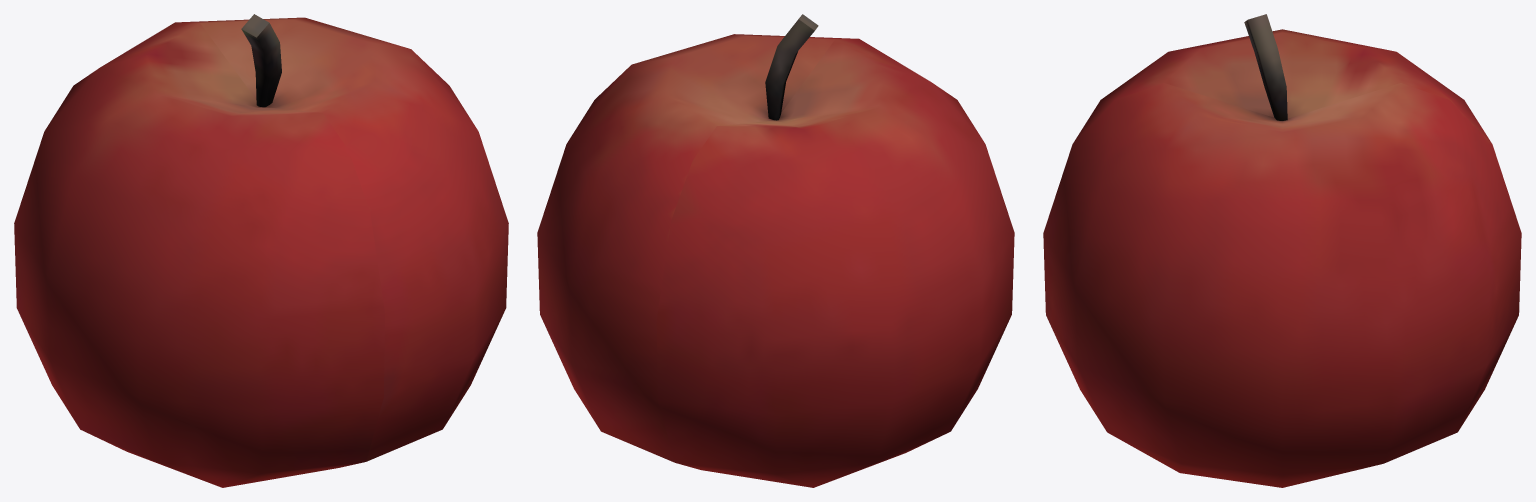
The model's file is apple_0.glb.
3 renders of one model, left to right at view 1: azimuth 30°, elevation 25°; view 2: azimuth 150°, elevation 25°; view 3: azimuth 270°, elevation 25°, orthographic. The views are drawn at different scales.
Parts seen in each view (by area): view 1: apple_0; view 2: apple_0; view 3: apple_0.
Part boxes in pixels (x1=…): apple_0: x1=14, y1=14, x2=508, y2=487; apple_0: x1=537, y1=14, x2=1014, y2=487; apple_0: x1=1043, y1=14, x2=1521, y2=487.
Bounding box in the file's own units: 0.1323 × 0.1246 × 0.1323.
Materials: 1 (1 with a texture image).
